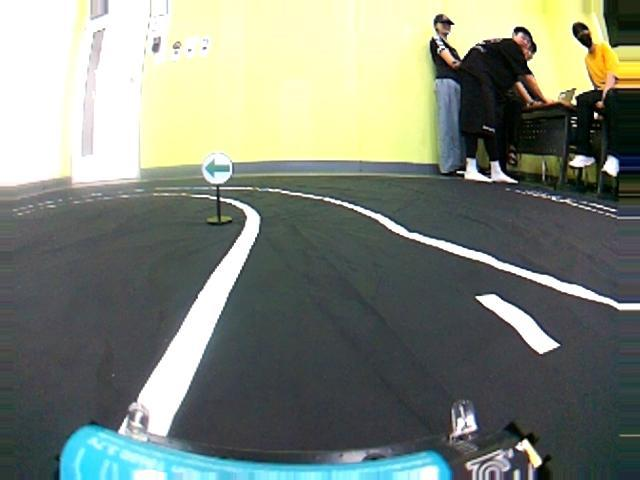sign_left: (196, 151, 238, 187)
straight: (138, 216, 640, 479)
